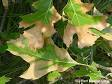Diseased_Leaves: (22, 19, 57, 47), (67, 17, 95, 52), (20, 57, 63, 79), (75, 1, 95, 14)
